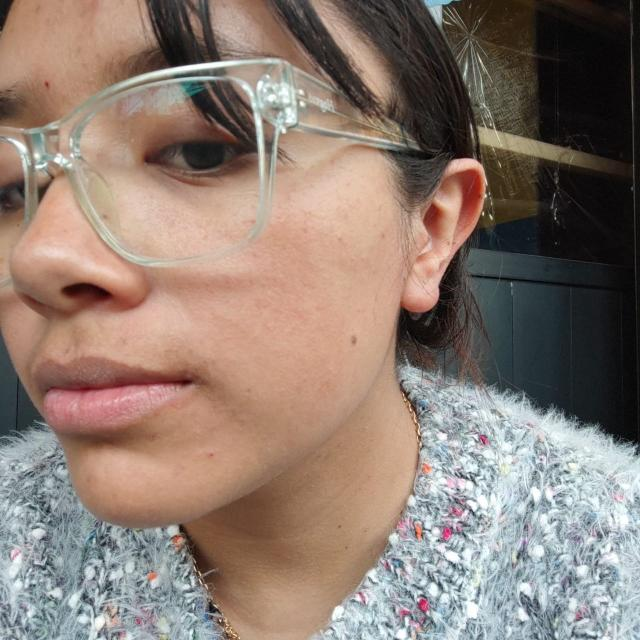ear: (402, 159, 485, 312)
